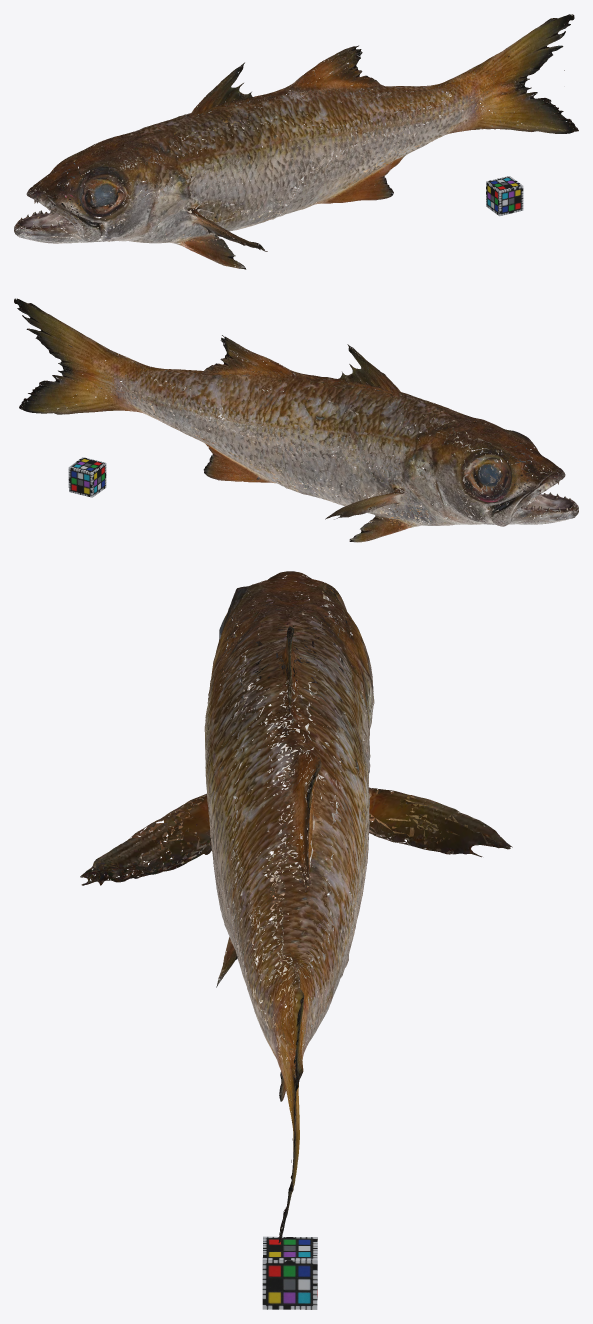
Rendered from scan_gnomefish.glb.
3 renders of one model, top to bottom at view 1: azimuth 30°, elevation 25°; view 2: azimuth 150°, elevation 25°; view 3: azimuth 270°, elevation 25°, orthographic. The views are drawn at different scales.
Parts seen in each view (by area): view 1: Object_6, Object_12, Object_4; view 2: Object_6, Object_12, Object_4; view 3: Object_12, Object_6, Object_4.
Part boxes in pixels (box(x1,y1,x2,y2)): Object_6: box(14, 14, 578, 268); Object_12: box(14, 14, 578, 269); Object_4: box(486, 176, 523, 216); Object_6: box(16, 299, 577, 542); Object_12: box(14, 298, 578, 542); Object_4: box(68, 457, 106, 497); Object_12: box(80, 571, 512, 1242); Object_6: box(81, 571, 510, 1242); Object_4: box(262, 1236, 317, 1309).
Size of the model in its own units: 13.07 by 4.66 by 4.36.
3 materials, 3 textured.
